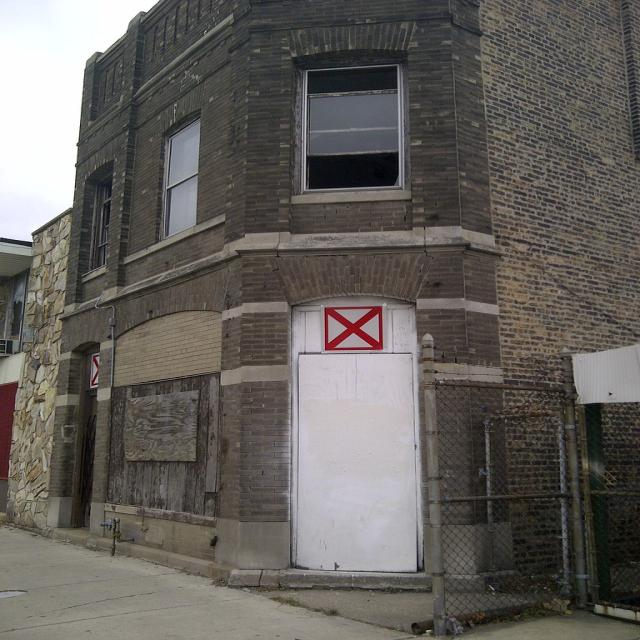House: (49, 0, 636, 576)
